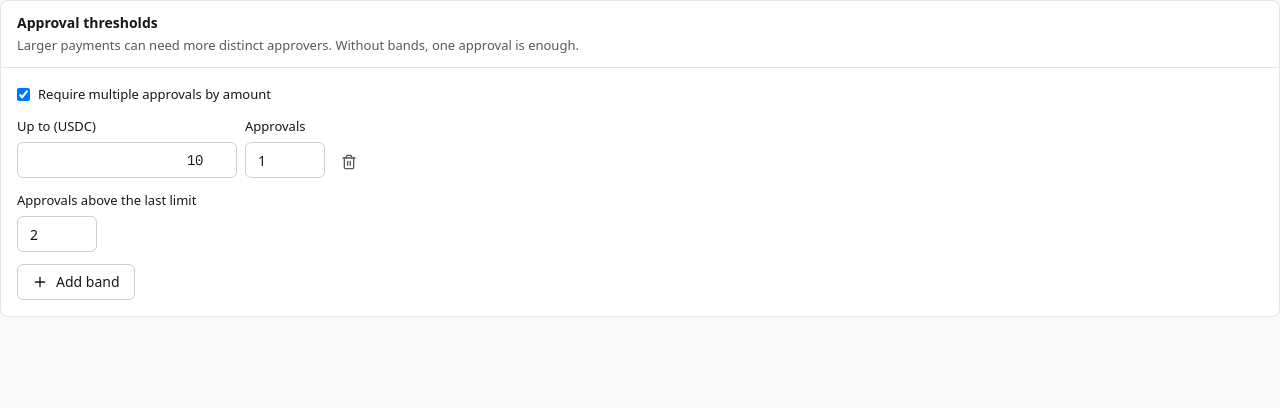
Test: the editor adds a band row
This screenshot has width=1280, height=408.
Expected: the number of fields labelled "Up to (USDC)" is 1, [18,143,215,177]
Click the button "Add band" at (76, 282), box [17,264,134,300]
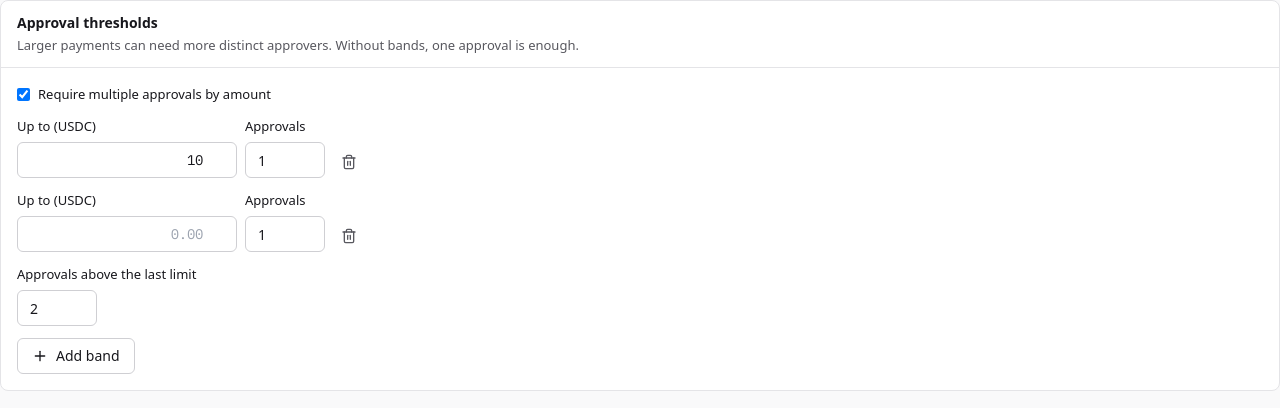
Now the number of fields labelled "Up to (USDC)" is 2, box [18,143,215,177]; [18,217,215,251]
